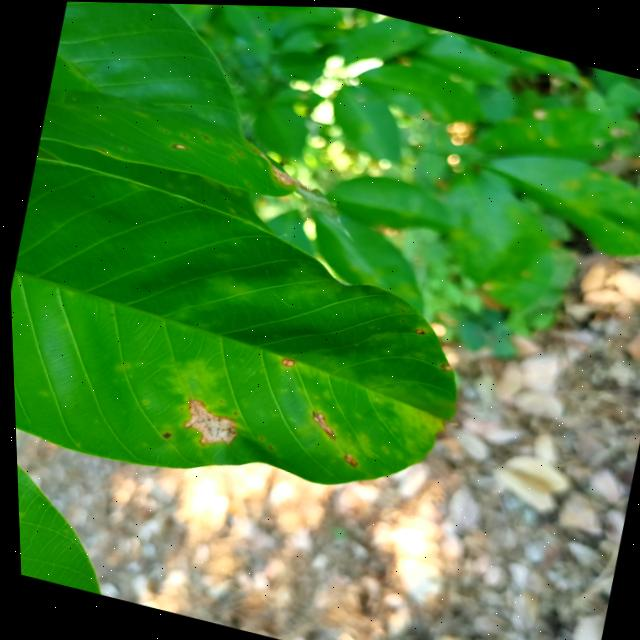Colletotrichum: (439, 361, 449, 370), (277, 355, 285, 364), (410, 326, 420, 333), (283, 358, 291, 365)
Leaf-Blight: (174, 395, 238, 449), (265, 162, 312, 189)
